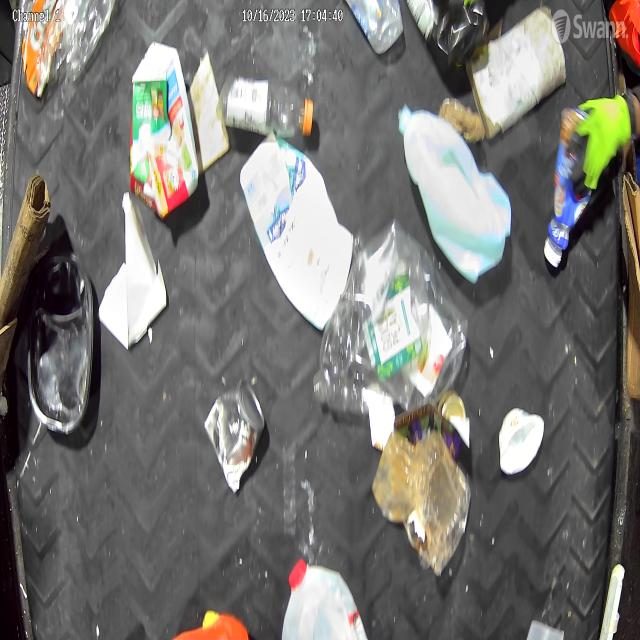can: (204, 375, 272, 496)
milk_jug: (242, 135, 353, 328), (396, 95, 509, 274), (279, 551, 365, 640)
non_white_jug: (130, 45, 201, 211)
plastic_bottle: (310, 233, 464, 408), (220, 67, 314, 145), (46, 0, 119, 100)
